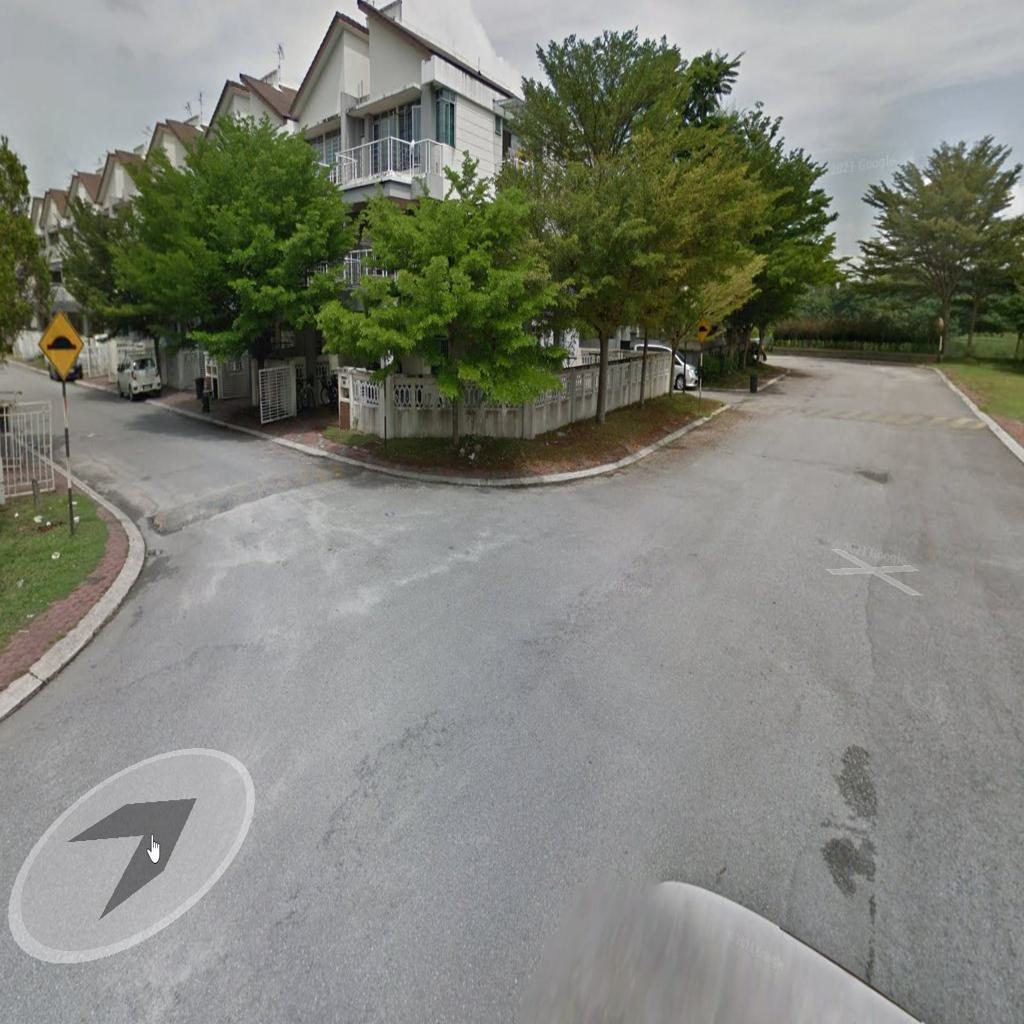Junction: (52, 432, 554, 764)
